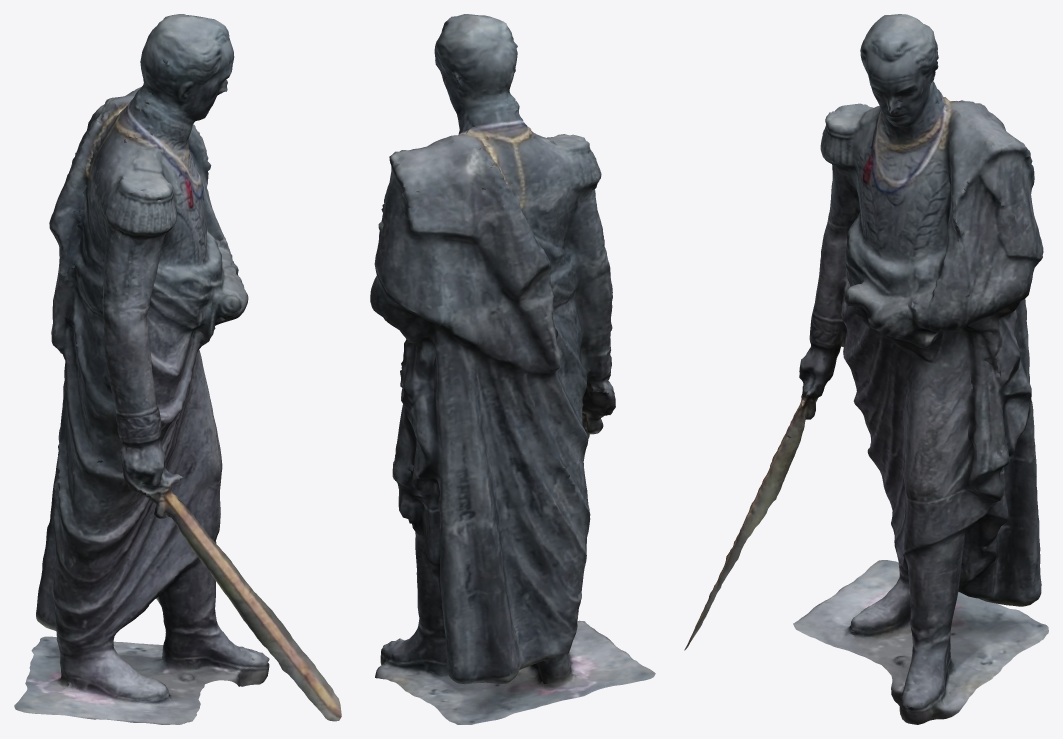
File: simon_bolivar_scanner_3d_simplified_3d_mesh.glb
3 views of the same model, side by side, from view 1: azimuth 30°, elevation 25°; view 2: azimuth 150°, elevation 25°; view 3: azimuth 270°, elevation 25° (orthographic). The views are drawn at different scales.
Parts seen in each view (by area): view 1: mesh_out_node; view 2: mesh_out_node; view 3: mesh_out_node.
Boxes of the visible parts, left/top/right/bottom form: mesh_out_node: left=14, top=14, right=341, bottom=724; mesh_out_node: left=370, top=14, right=655, bottom=724; mesh_out_node: left=684, top=14, right=1048, bottom=724.
Size of the model in its own units: 0.8527 by 2.11 by 1.05.
1 material, 1 textured.
